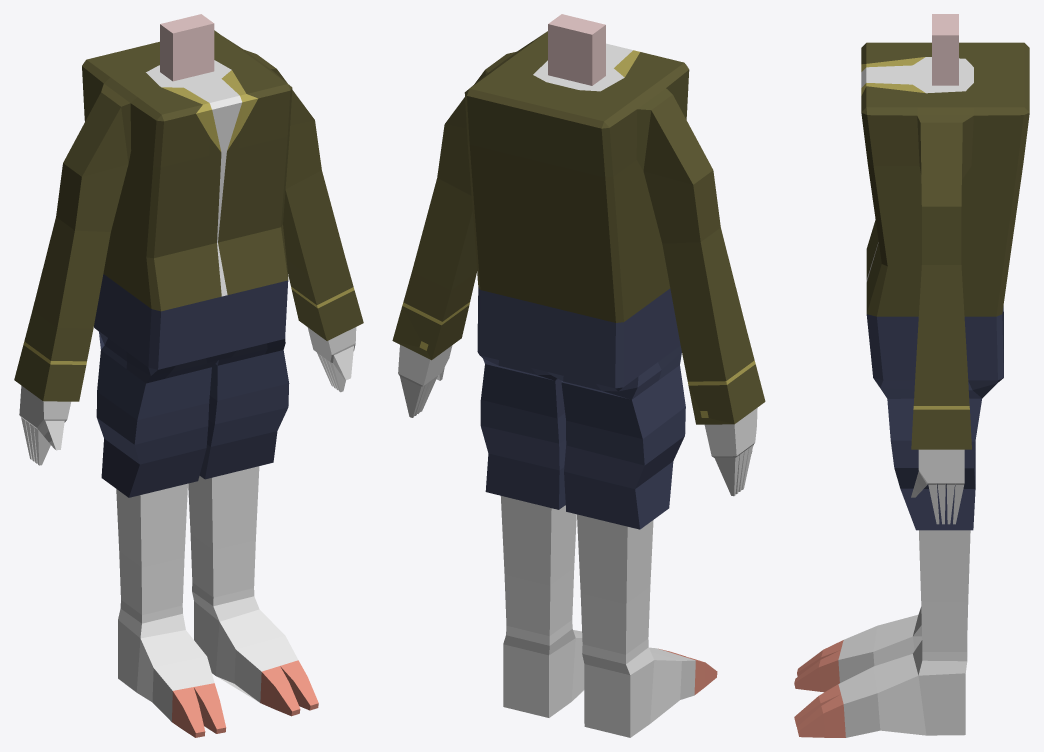
Rendered from Pig_Screw.fbx.
3 views of the same model, side by side, from view 1: azimuth 30°, elevation 25°; view 2: azimuth 150°, elevation 25°; view 3: azimuth 270°, elevation 25° (orthographic). The views are drawn at different scales.
Parts seen in each view (by area): view 1: Cube.002; view 2: Cube.002; view 3: Cube.002.
Boxes of the visible parts, x1,y1,x2,y2 form: Cube.002: (14,14,363,737); Cube.002: (392,14,765,737); Cube.002: (794,14,1029,737).
Bounding box in the file's own units: 63.1 × 122 × 38.2.
